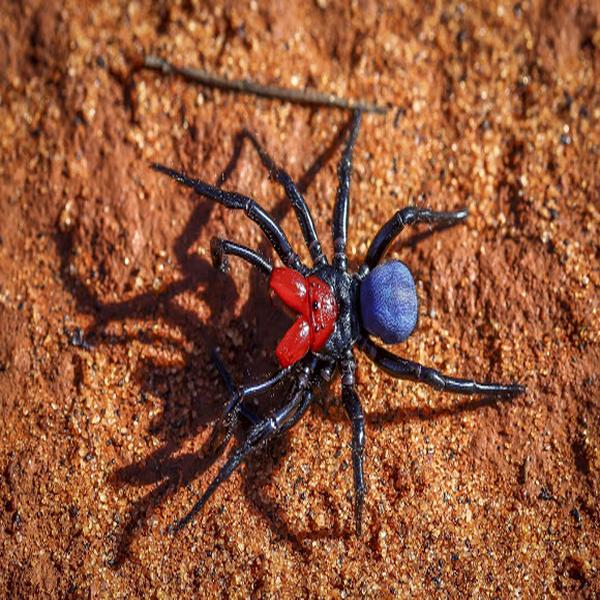Red Headed Mouse Spider: (162, 112, 520, 520)
